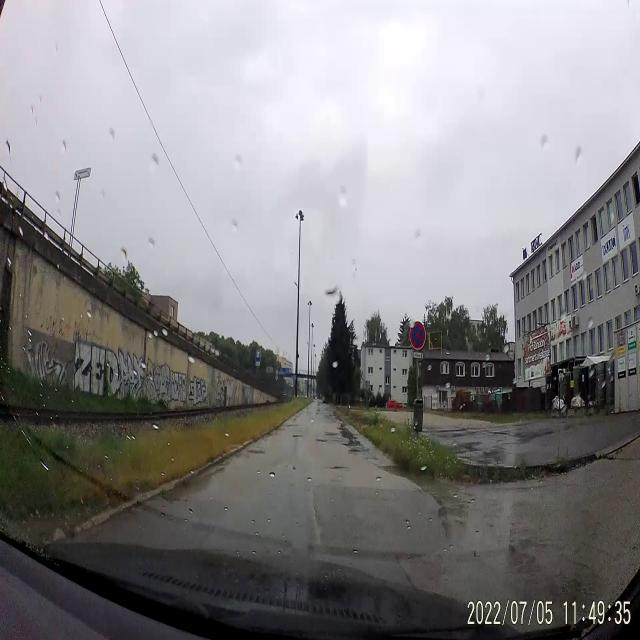Manhole: (246, 444, 266, 458)
Pothole: (328, 458, 352, 480), (310, 436, 329, 452), (292, 428, 304, 444)
